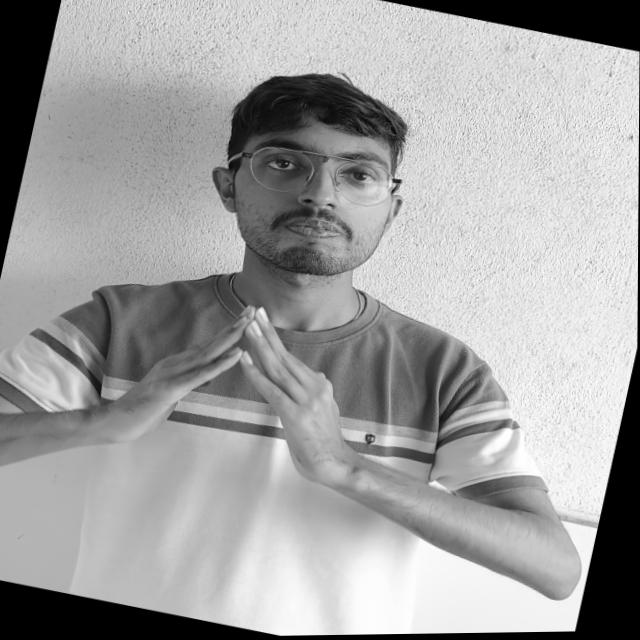Home: (60, 258, 430, 513)
